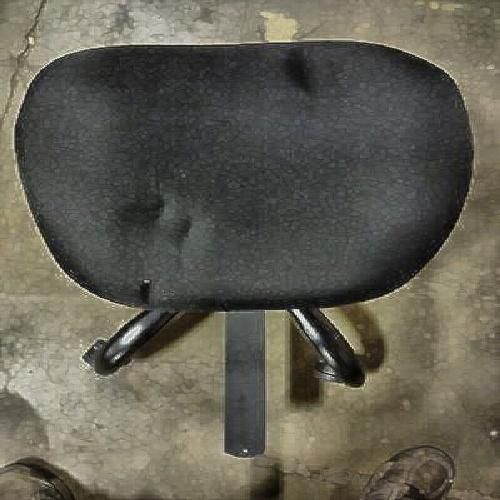chair: (32, 47, 473, 434)
